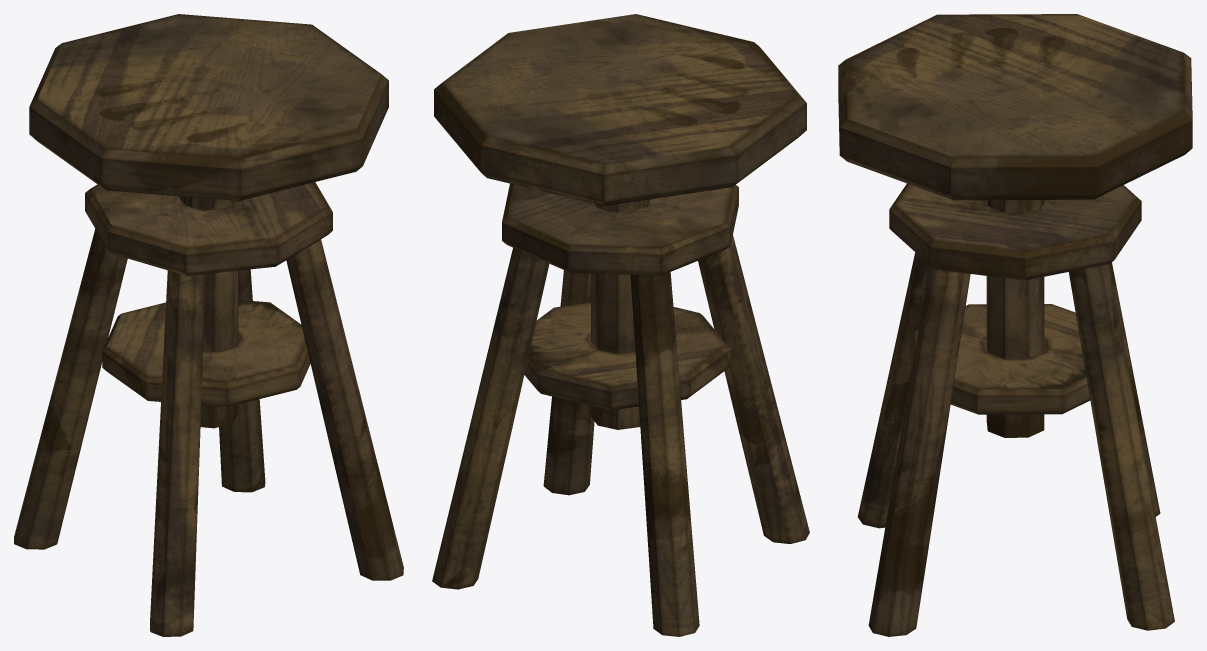
Rendered from Stool.fbx.
The picture shows the model from 3 angles, left to right: view 1: azimuth 30°, elevation 25°; view 2: azimuth 150°, elevation 25°; view 3: azimuth 270°, elevation 25°; orthographic projection. The views are drawn at different scales.
Parts seen in each view (by area): view 1: Stool.001; view 2: Stool.001; view 3: Stool.001.
Boxes of the visible parts, x1,y1,x2,y2 form: Stool.001: [14, 14, 403, 636]; Stool.001: [432, 14, 809, 636]; Stool.001: [838, 14, 1192, 636].
Size of the model in its own units: 34.43 by 52.19 by 34.43.
